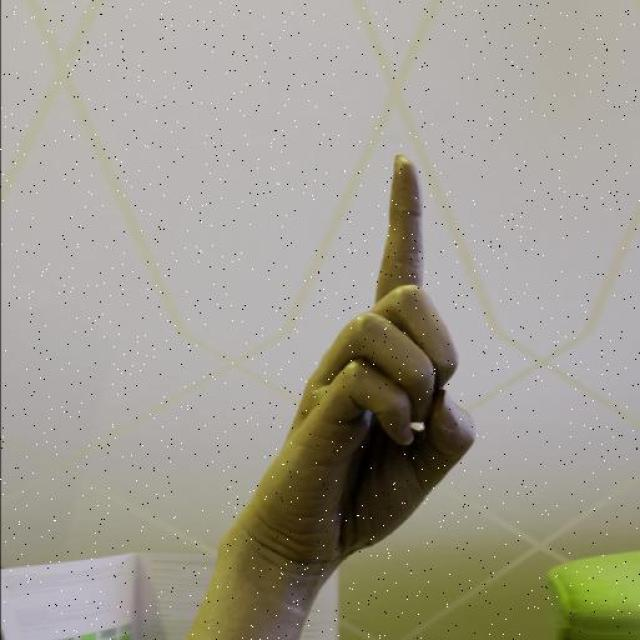D: (226, 150, 480, 569)
